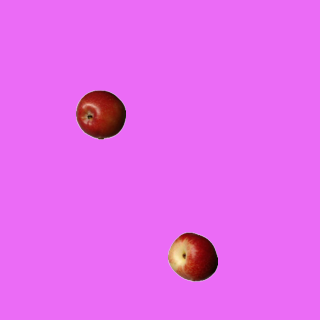Apple Braeburn: (75, 89, 125, 139)
Nectarine: (167, 231, 217, 281)
